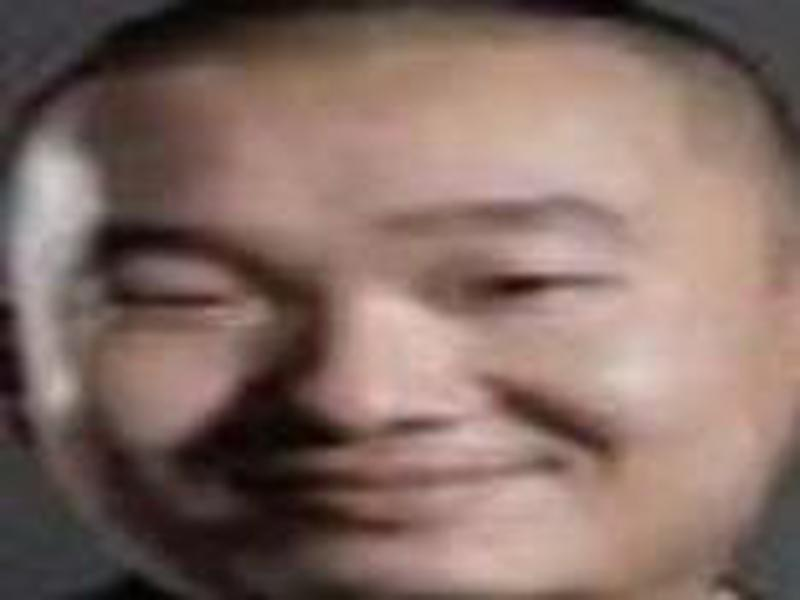without_mask: (42, 93, 765, 593)
